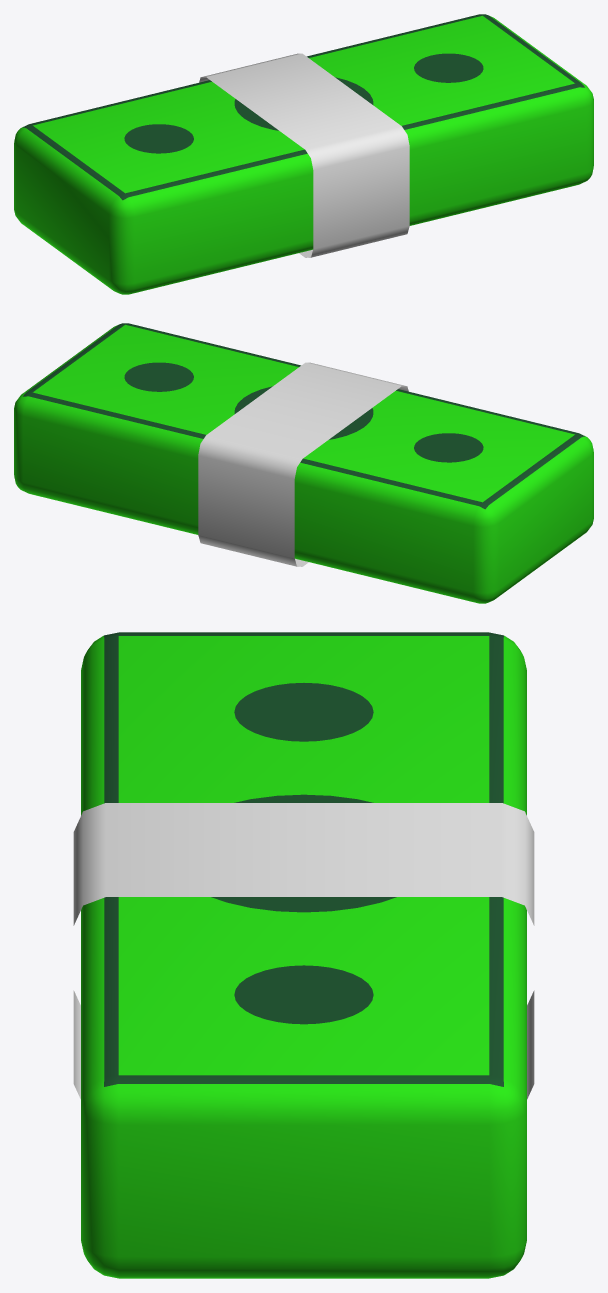
File: Money.fbx
The picture shows the model from 3 angles, top to bottom: view 1: azimuth 30°, elevation 25°; view 2: azimuth 150°, elevation 25°; view 3: azimuth 270°, elevation 25°; orthographic projection. The views are drawn at different scales.
Parts seen in each view (by area): view 1: Money; view 2: Money; view 3: Money.
Part boxes in pixels (x1,y1,x2,y2): Money: (14, 14, 593, 294); Money: (14, 323, 593, 603); Money: (73, 632, 534, 1278).
Bounding box in the file's own units: 100 × 41.32 × 21.4.
